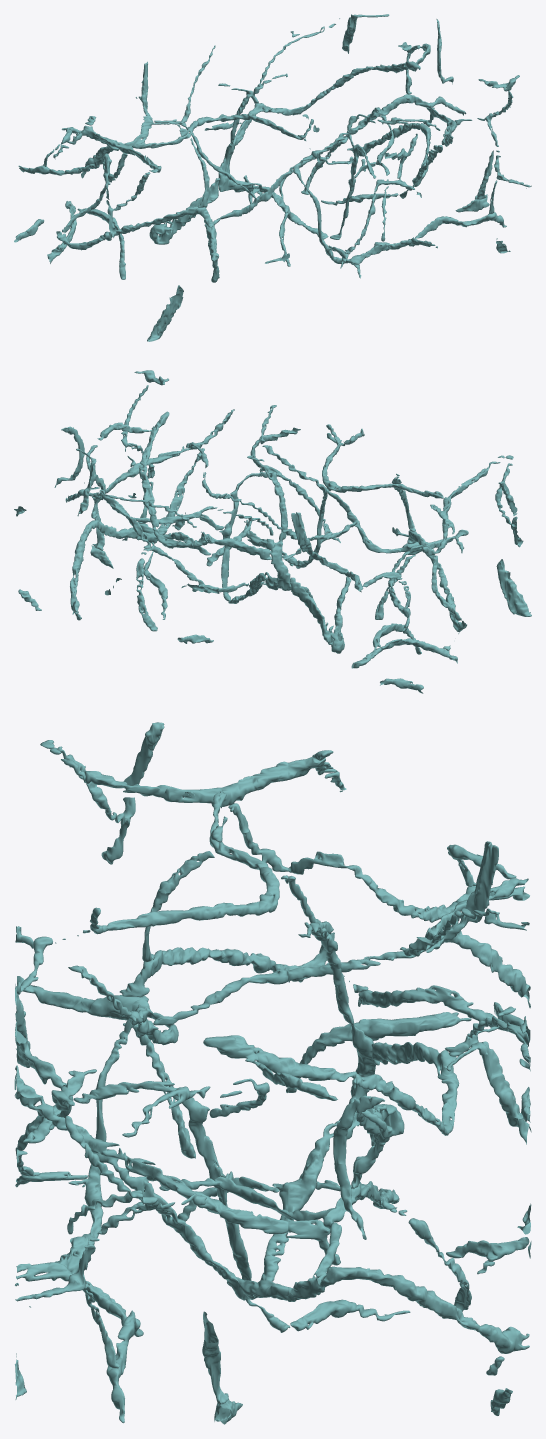
The model's file is h01-capillary-model.glb.
The picture shows the model from 3 angles, top to bottom: view 1: azimuth 30°, elevation 25°; view 2: azimuth 150°, elevation 25°; view 3: azimuth 270°, elevation 25°; orthographic projection. The views are drawn at different scales.
Parts seen in each view (by area): view 1: H01_vessel_715, H01_vessel_662, H01_vessel_829, H01_vessel_510, H01_vessel_708, H01_vessel_831, H01_vessel_657, H01_vessel_841, H01_vessel_659, H01_vessel_762, H01_vessel_514, H01_vessel_516 (+14 smaller); view 2: H01_vessel_829, H01_vessel_708, H01_vessel_715, H01_vessel_662, H01_vessel_831, H01_vessel_507, H01_vessel_657, H01_vessel_707, H01_vessel_659, H01_vessel_841, H01_vessel_762, H01_vessel_511 (+15 smaller); view 3: H01_vessel_708, H01_vessel_829, H01_vessel_715, H01_vessel_707, H01_vessel_514, H01_vessel_657, H01_vessel_507, H01_vessel_662, H01_vessel_516, H01_vessel_575, H01_vessel_510, H01_vessel_831 (+23 smaller).
Boxes of the visible parts, <box> form: H01_vessel_715: <box>218,73,328,239</box>; H01_vessel_662: <box>293,107,411,264</box>; H01_vessel_829: <box>230,61,420,149</box>; H01_vessel_510: <box>56,206,214,250</box>; H01_vessel_708: <box>347,123,442,186</box>; H01_vessel_831: <box>301,94,466,194</box>; H01_vessel_657: <box>132,114,313,148</box>; H01_vessel_841: <box>149,178,220,244</box>; H01_vessel_659: <box>204,169,293,260</box>; H01_vessel_762: <box>61,61,170,149</box>; H01_vessel_514: <box>53,125,161,172</box>; H01_vessel_516: <box>18,153,127,182</box>; H01_vessel_829: <box>139,411,272,559</box>; H01_vessel_708: <box>70,448,204,614</box>; H01_vessel_715: <box>228,455,291,603</box>; H01_vessel_662: <box>246,405,327,567</box>; H01_vessel_831: <box>65,489,157,631</box>; H01_vessel_507: <box>334,577,457,668</box>; H01_vessel_657: <box>322,424,443,498</box>; H01_vessel_707: <box>91,409,234,518</box>; H01_vessel_659: <box>326,489,468,554</box>; H01_vessel_841: <box>290,577,344,653</box>; H01_vessel_762: <box>291,512,363,592</box>; H01_vessel_511: <box>496,559,531,616</box>; H01_vessel_708: <box>93,1149,529,1353</box>; H01_vessel_829: <box>203,1035,459,1135</box>; H01_vessel_715: <box>260,922,379,1281</box>; H01_vessel_707: <box>14,1078,340,1265</box>; H01_vessel_514: <box>50,747,346,806</box>; H01_vessel_657: <box>90,791,279,934</box>; H01_vessel_507: <box>358,931,530,1046</box>; H01_vessel_662: <box>59,965,148,1273</box>; H01_vessel_516: <box>228,803,529,922</box>; H01_vessel_575: <box>73,1081,251,1280</box>; H01_vessel_510: <box>119,932,334,997</box>; H01_vessel_831: <box>312,1181,471,1311</box>.
Bounding box in the file's own units: 12.14 × 4.68 × 6.74.
